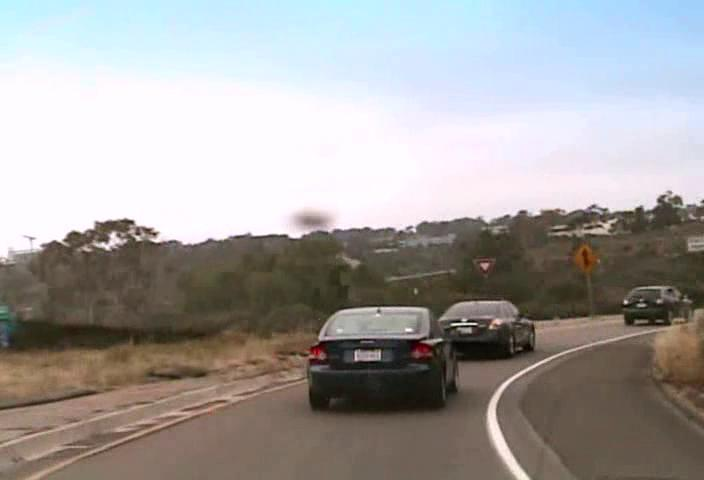merge: (570, 242, 599, 275)
